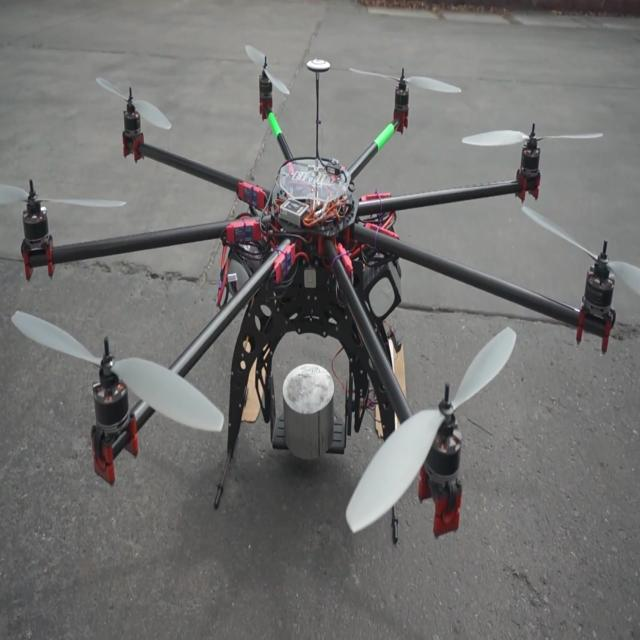drone: (0, 45, 626, 545)
